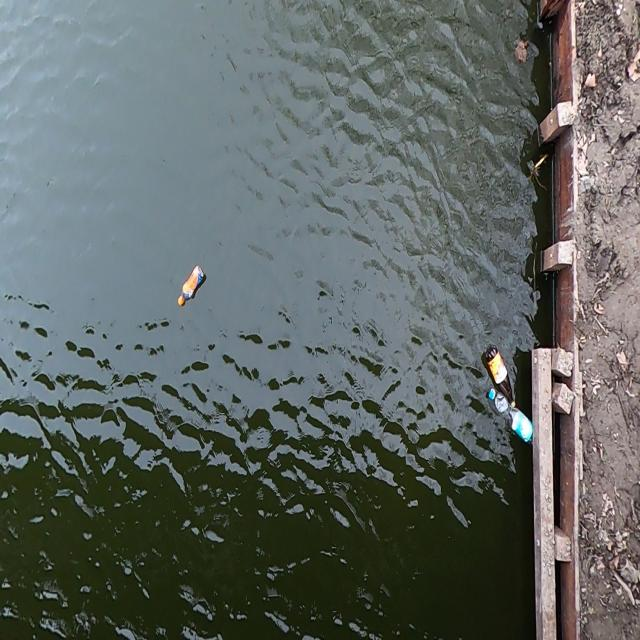Bouteille plastique: (481, 380, 534, 459), (477, 331, 517, 412), (177, 262, 211, 312)
